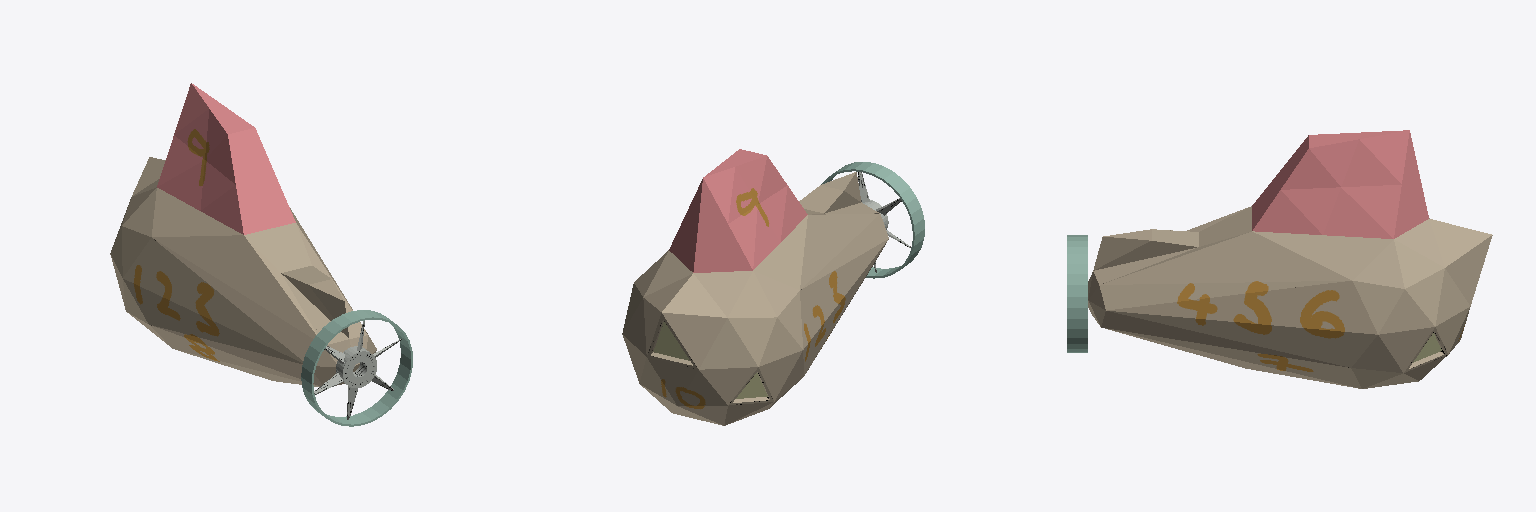
3 views of the same model, side by side, from view 1: azimuth 30°, elevation 25°; view 2: azimuth 150°, elevation 25°; view 3: azimuth 270°, elevation 25° (orthographic).
Parts seen in each view (by area): view 1: Icosphere; view 2: Icosphere; view 3: Icosphere.
Boxes of the visible parts, x1,y1,x2,y2 form: Icosphere: [110, 83, 412, 426]; Icosphere: [622, 149, 924, 425]; Icosphere: [1067, 130, 1492, 388].
Bounding box in the file's own units: 1.74 × 2.48 × 3.81.
1 materials, 1 textured.